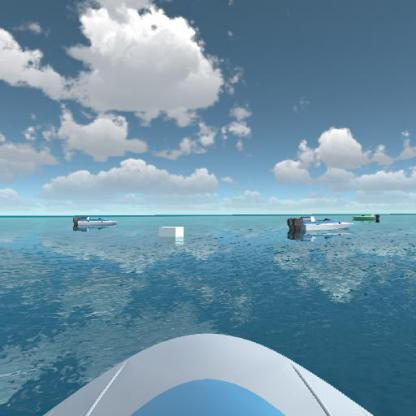usv0: (350, 211, 383, 225)
usv1: (285, 211, 353, 241), (72, 213, 119, 233)
